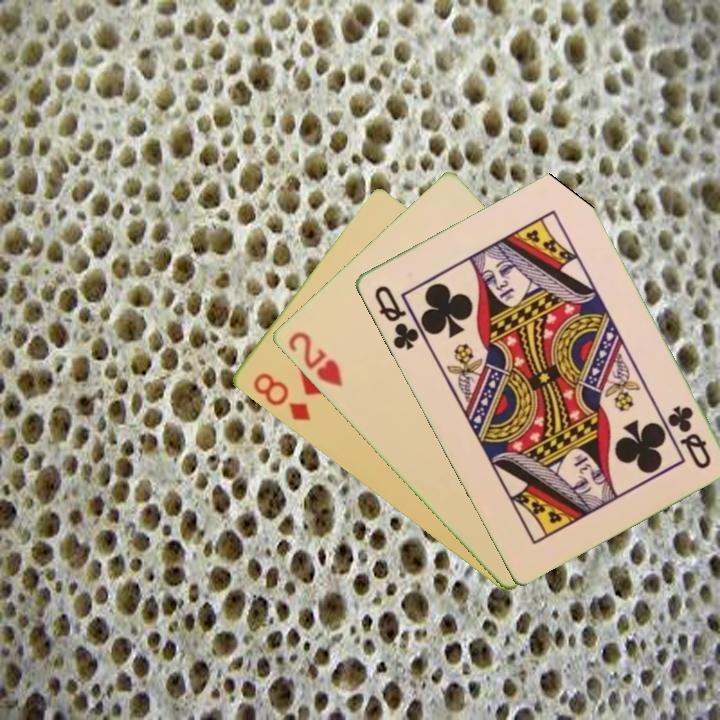2h: (284, 327, 346, 390)
8d: (249, 369, 313, 424)
Qc: (370, 281, 422, 353), (663, 401, 714, 472)
